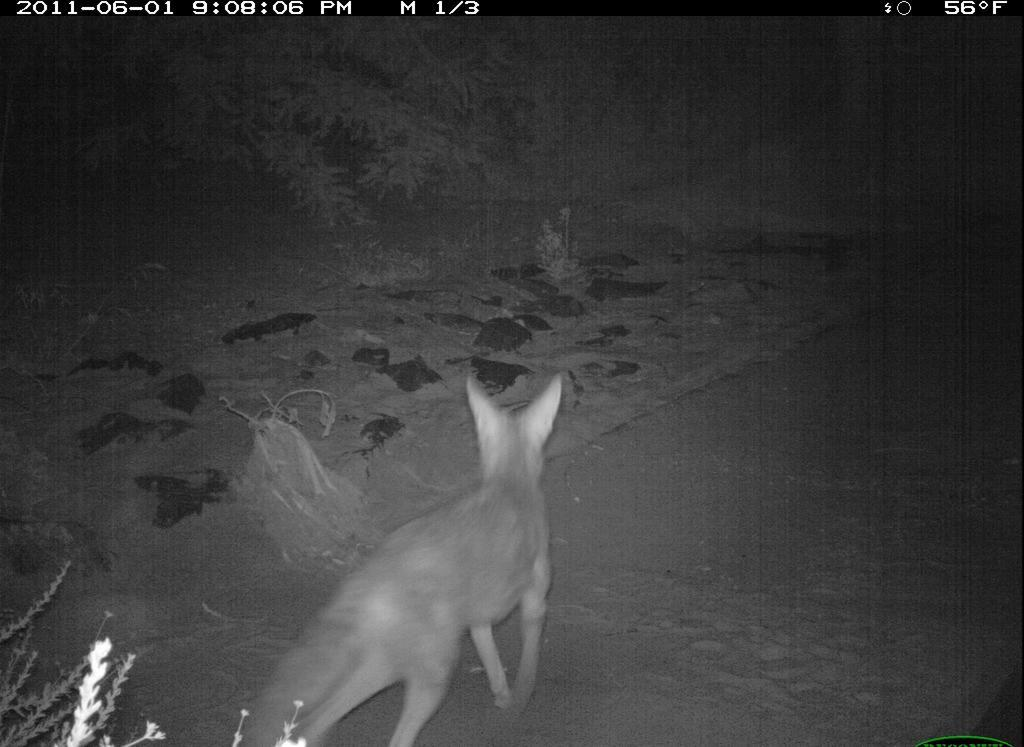coyote: (233, 367, 579, 743)
